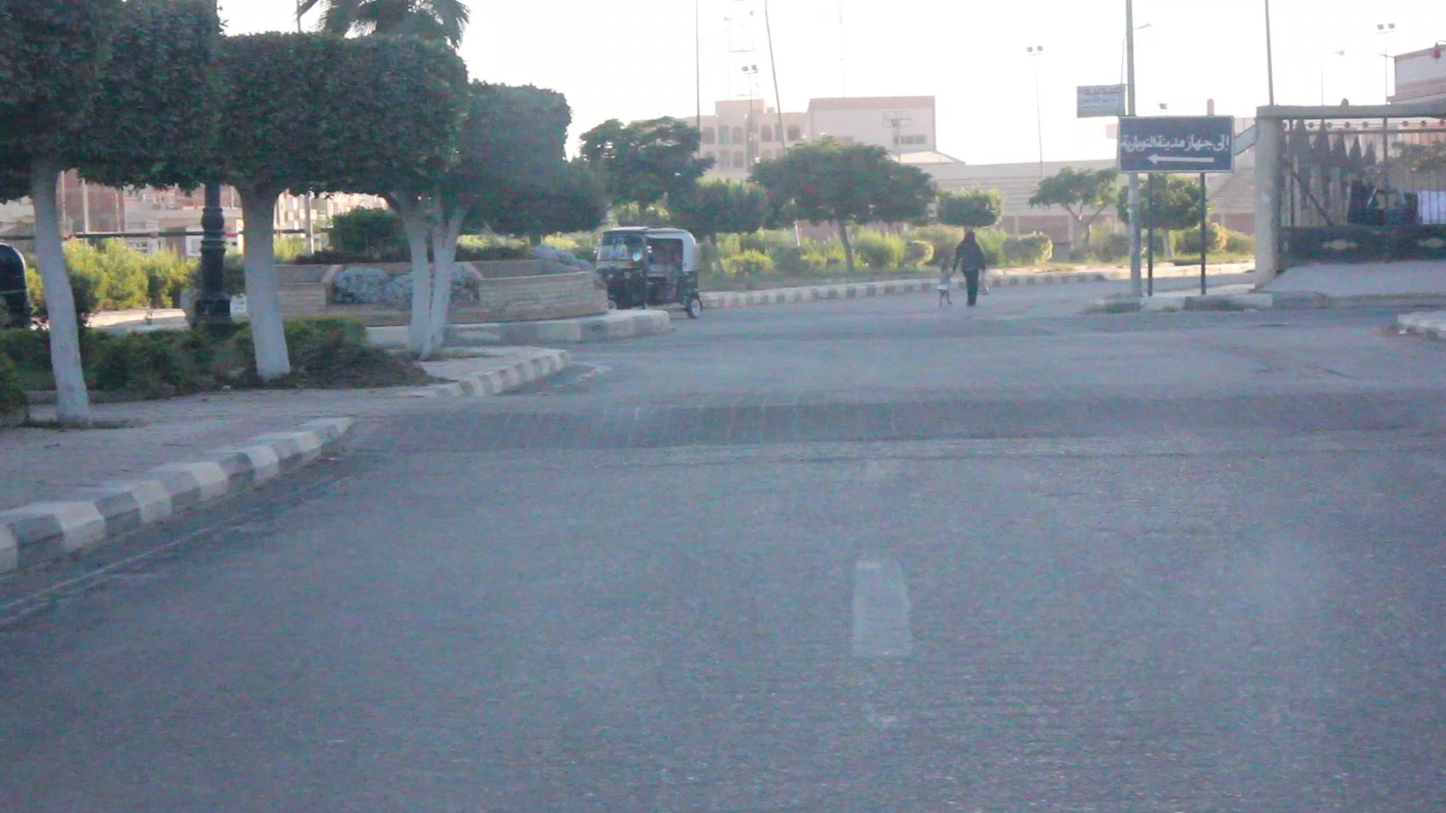Bump: (341, 361, 1438, 466)
